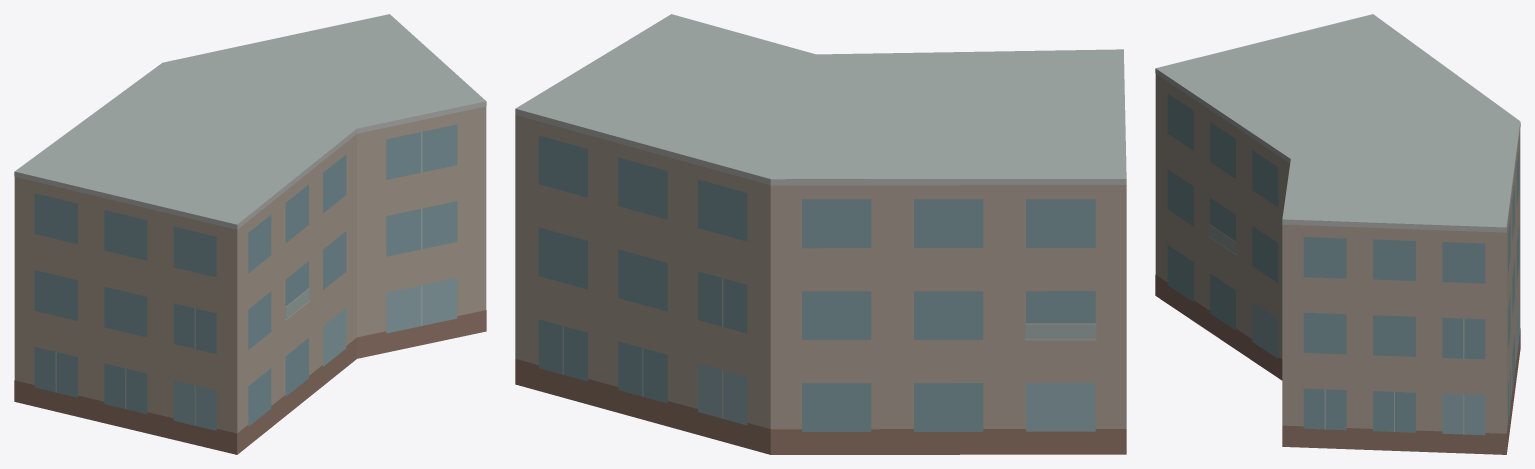
File: survey-upis-32862705.glb
3 renders of one model, left to right at view 1: azimuth 30°, elevation 25°; view 2: azimuth 150°, elevation 25°; view 3: azimuth 270°, elevation 25°, orthographic. The views are drawn at different scales.
Parts seen in each view (by area): view 1: survey-upis-32862705.tmp; view 2: survey-upis-32862705.tmp; view 3: survey-upis-32862705.tmp.
Part boxes in pixels (x1,y1,x2,y2): survey-upis-32862705.tmp: (14,14,486,454); survey-upis-32862705.tmp: (515,14,1126,454); survey-upis-32862705.tmp: (1155,14,1520,454).
Size of the model in its own units: 21.91 by 10.88 by 15.84.
